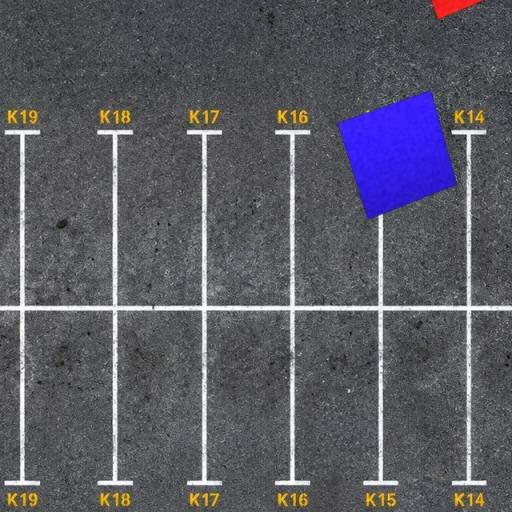BLUE_SQUARE: (336, 90, 458, 220)
